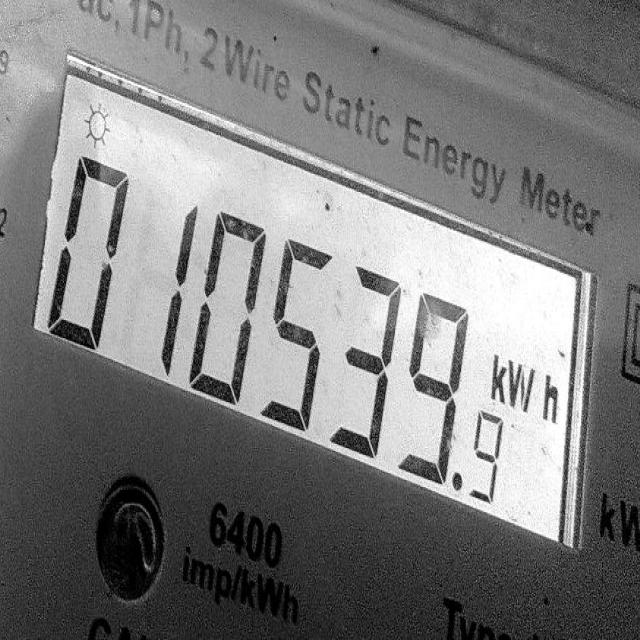display: (31, 49, 580, 545)
frame: (41, 142, 514, 512)
